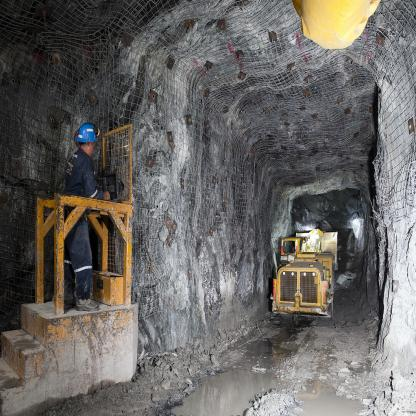bull_dozer/loader/grader: (265, 208, 347, 332)
person: (58, 117, 128, 328)
